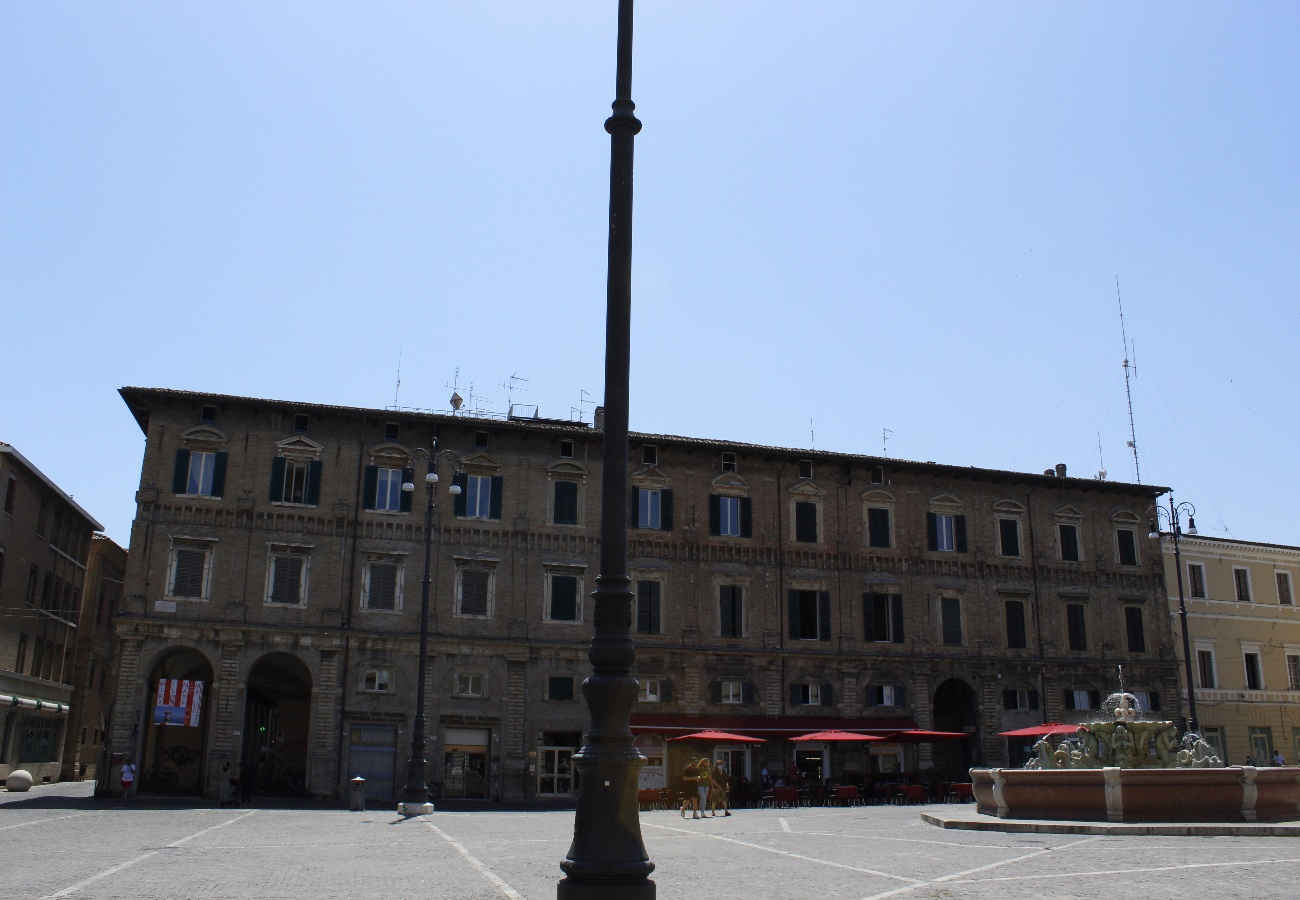Fontana Piazza del Popolo: (1075, 714, 1183, 773)
Palazzo Baviera: (118, 382, 1180, 809)
